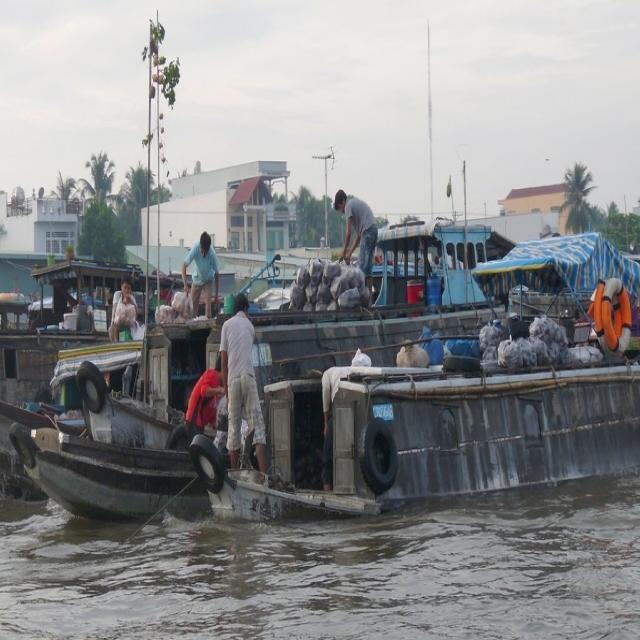boat: (234, 357, 640, 523)
